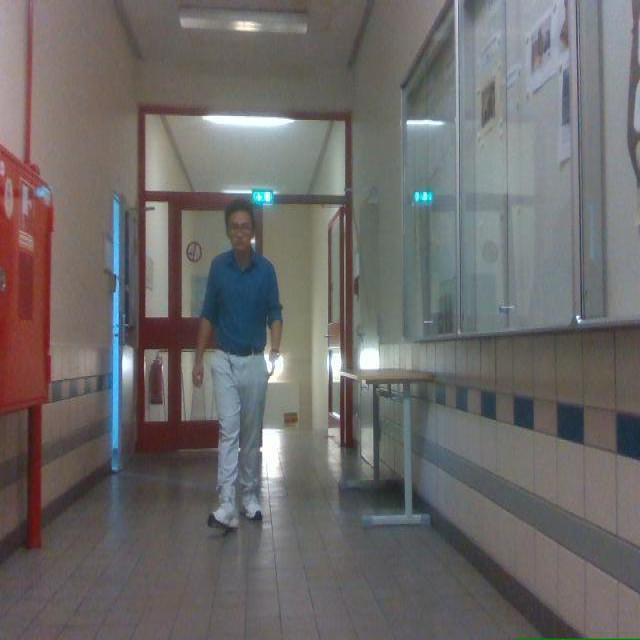humans: (192, 199, 282, 528)
objects: (340, 368, 434, 525)
